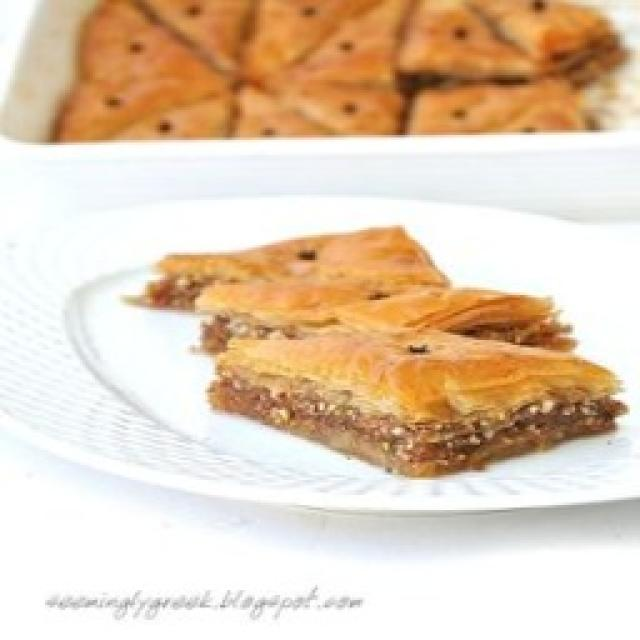Baklawa: (85, 222, 630, 480), (15, 0, 640, 140)
